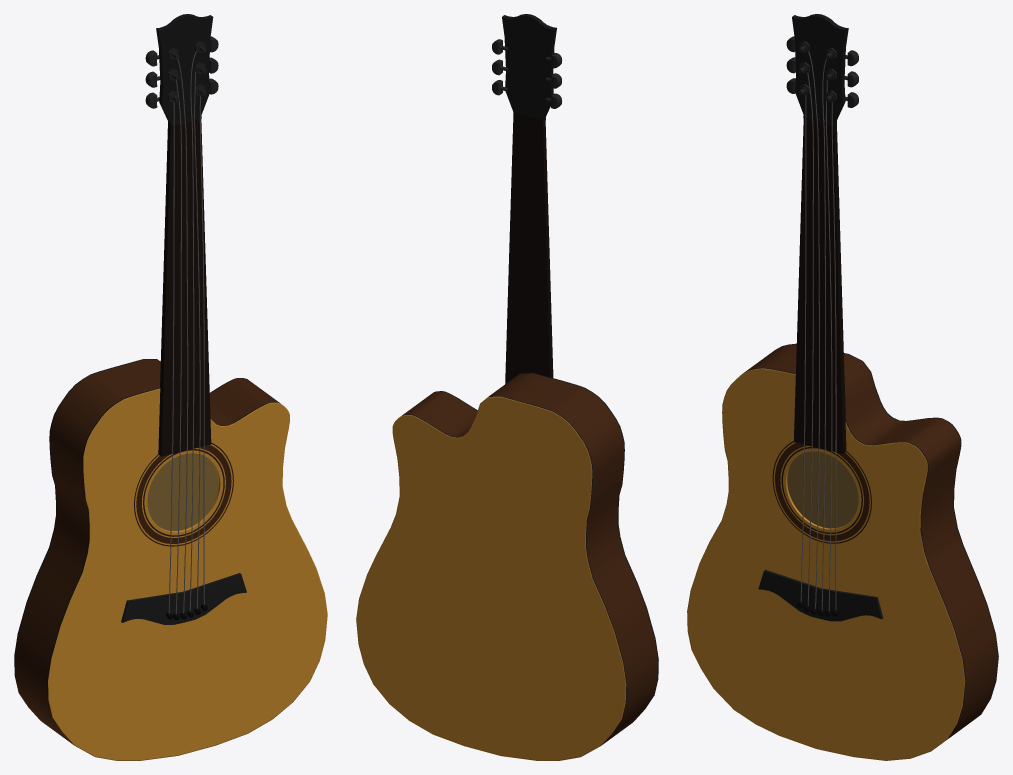
File: guitar.obj
3 views of the same model, side by side, from view 1: azimuth 30°, elevation 25°; view 2: azimuth 150°, elevation 25°; view 3: azimuth 330°, elevation 25° (orthographic). The views are drawn at different scales.
Visible parts, largest first — view 1: guitar_base, guitar_handle, guitar_strings, guitar_cable fixing base, guitar_adjust strings, guitar_freeze strings; view 2: guitar_base, guitar_handle, guitar_adjust strings; view 3: guitar_base, guitar_handle, guitar_strings, guitar_cable fixing base, guitar_adjust strings, guitar_freeze strings.
Boxes of the visible parts, x1=… form: guitar_base: x1=14, y1=359, x2=327, y2=760; guitar_handle: x1=156, y1=14, x2=213, y2=456; guitar_strings: x1=168, y1=51, x2=204, y2=614; guitar_cable fixing base: x1=121, y1=573, x2=246, y2=624; guitar_adjust strings: x1=145, y1=36, x2=218, y2=108; guitar_freeze strings: x1=168, y1=41, x2=206, y2=102; guitar_base: x1=356, y1=373, x2=658, y2=760; guitar_handle: x1=502, y1=14, x2=556, y2=383; guitar_adjust strings: x1=492, y1=39, x2=562, y2=108; guitar_base: x1=687, y1=343, x2=998, y2=760; guitar_handle: x1=792, y1=14, x2=848, y2=453; guitar_strings: x1=800, y1=51, x2=836, y2=610; guitar_cable fixing base: x1=758, y1=569, x2=883, y2=621; guitar_adjust strings: x1=786, y1=36, x2=858, y2=107; guitar_freeze strings: x1=798, y1=41, x2=836, y2=102.
Bounding box in the file's own units: 0.3774 × 0.954 × 0.0976.
